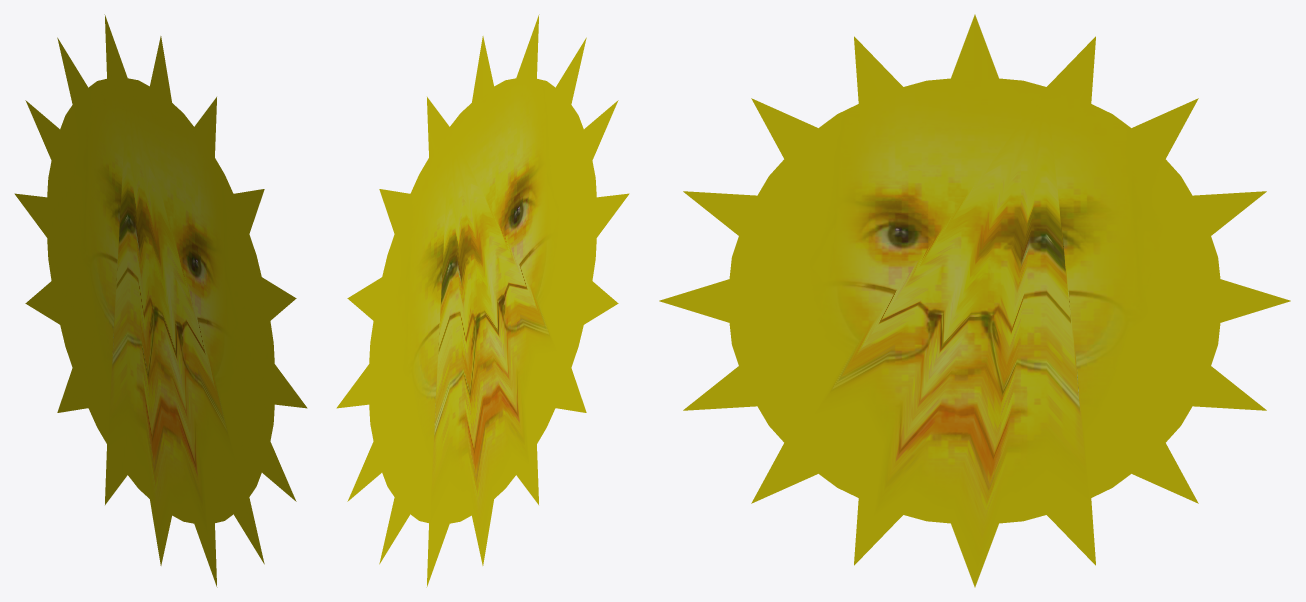
The model's file is AdorableSun.fbx.
3 renders of one model, left to right at view 1: azimuth 30°, elevation 25°; view 2: azimuth 150°, elevation 25°; view 3: azimuth 270°, elevation 25°, orthographic. The views are drawn at different scales.
Parts seen in each view (by area): view 1: AdorableSun; view 2: AdorableSun; view 3: AdorableSun.
Boxes of the visible parts, x1,y1,x2,y2 form: AdorableSun: (14, 14, 307, 587); AdorableSun: (336, 14, 629, 587); AdorableSun: (659, 14, 1290, 587).
Bounding box in the file's own units: 2.43e-05 × 256 × 256.
